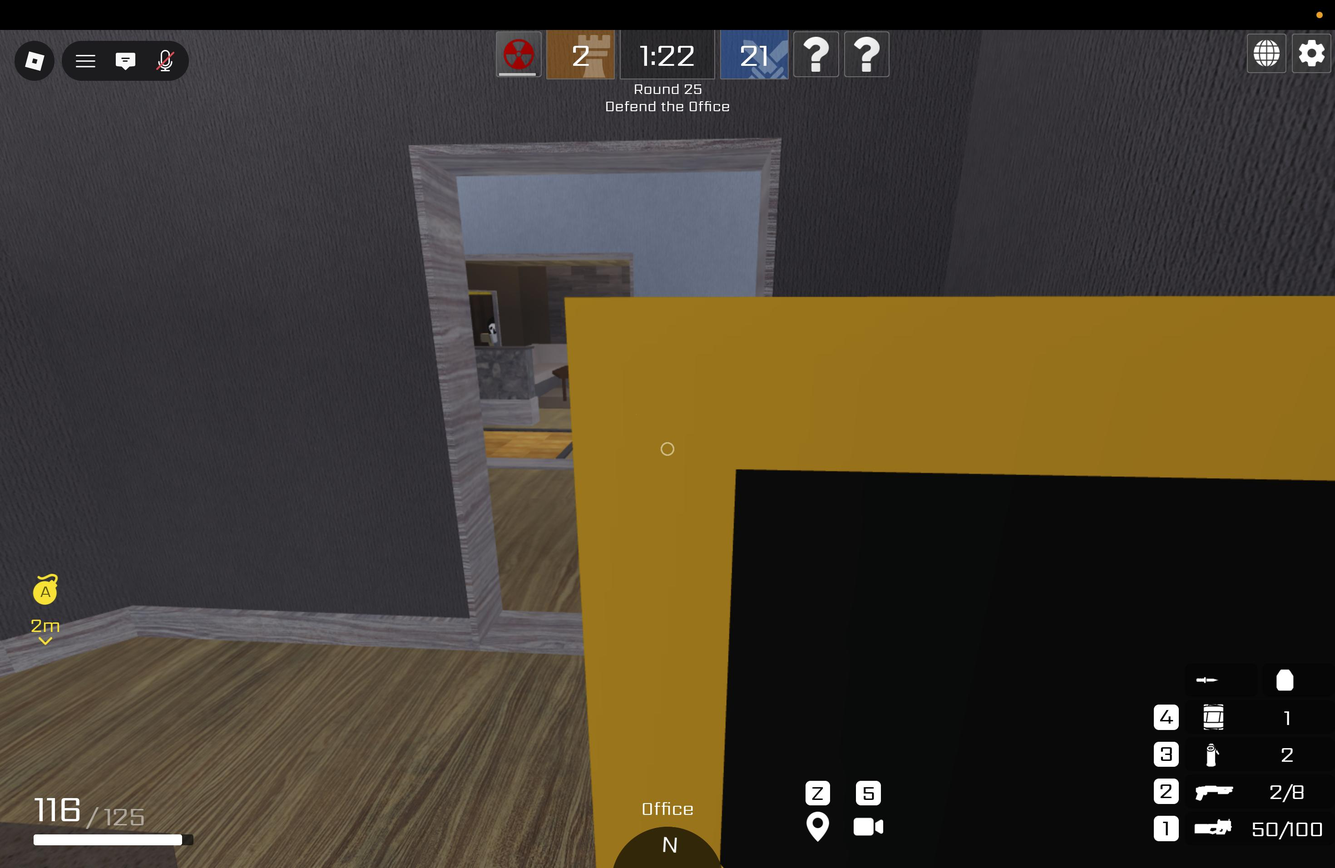enemy: (479, 320, 500, 349)
